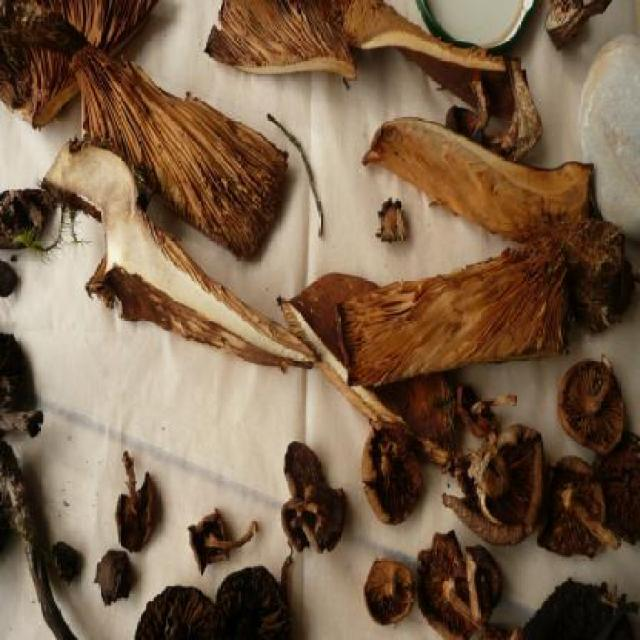Mushroom: (0, 0, 640, 638), (568, 362, 624, 468)
